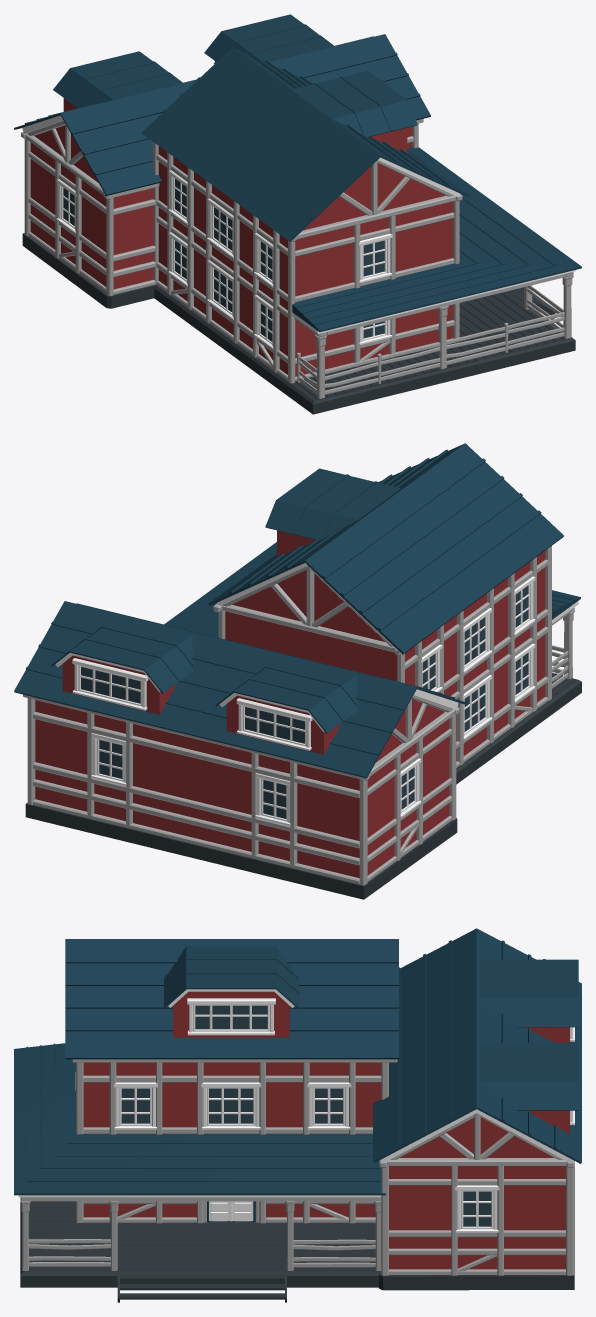
3 renders of one model, top to bottom at view 1: azimuth 30°, elevation 25°; view 2: azimuth 150°, elevation 25°; view 3: azimuth 270°, elevation 25°, orthographic. The views are drawn at different scales.
Parts seen in each view (by area): view 1: house_15.001; view 2: house_15.001; view 3: house_15.001.
Part boxes in pixels (bbox=[...]): house_15.001: bbox=[14, 14, 581, 414]; house_15.001: bbox=[14, 443, 581, 899]; house_15.001: bbox=[14, 928, 581, 1302].
Bounding box in the file's own units: 14.42 × 9.25 × 18.67.
1 material, 1 textured.
